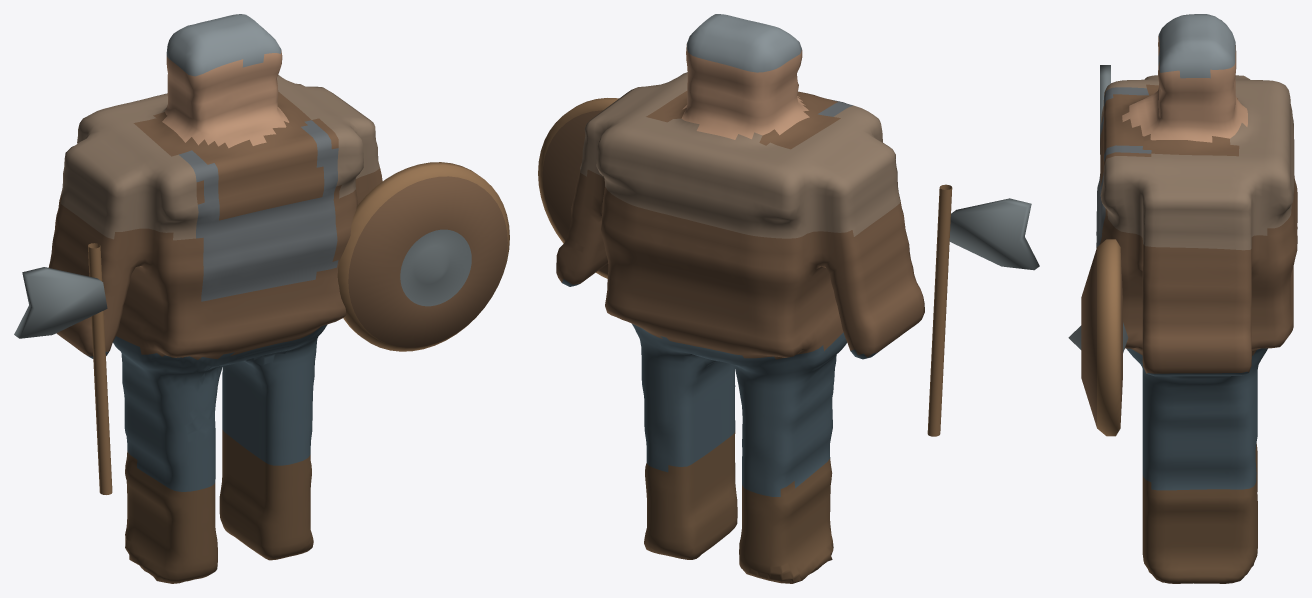
The model's file is viiking.glb.
The picture shows the model from 3 angles, left to right: view 1: azimuth 30°, elevation 25°; view 2: azimuth 150°, elevation 25°; view 3: azimuth 270°, elevation 25°; orthographic projection.
Visible parts, largest first — view 1: VikingBody_8000_TRUE_QUADS, Shield_detachable, Axe_iron_head, Axe_wooden_handle; view 2: VikingBody_8000_TRUE_QUADS, Shield_detachable, Axe_iron_head, Axe_wooden_handle; view 3: VikingBody_8000_TRUE_QUADS, Shield_detachable, Axe_iron_head.
Part boxes in pixels (x1,y1,x2,y2): VikingBody_8000_TRUE_QUADS: (48,14,382,583); Shield_detachable: (337,162,509,351); Axe_iron_head: (14,267,107,338); Axe_wooden_handle: (88,243,112,494); VikingBody_8000_TRUE_QUADS: (556,14,924,583); Shield_detachable: (538,98,618,278); Axe_iron_head: (949,198,1039,270); Axe_wooden_handle: (927,184,952,436); VikingBody_8000_TRUE_QUADS: (1096,14,1297,583); Shield_detachable: (1068,239,1128,436); Axe_iron_head: (1100,65,1110,154).
Bounding box in the file's own units: 1.8 × 1.85 × 0.7329.
